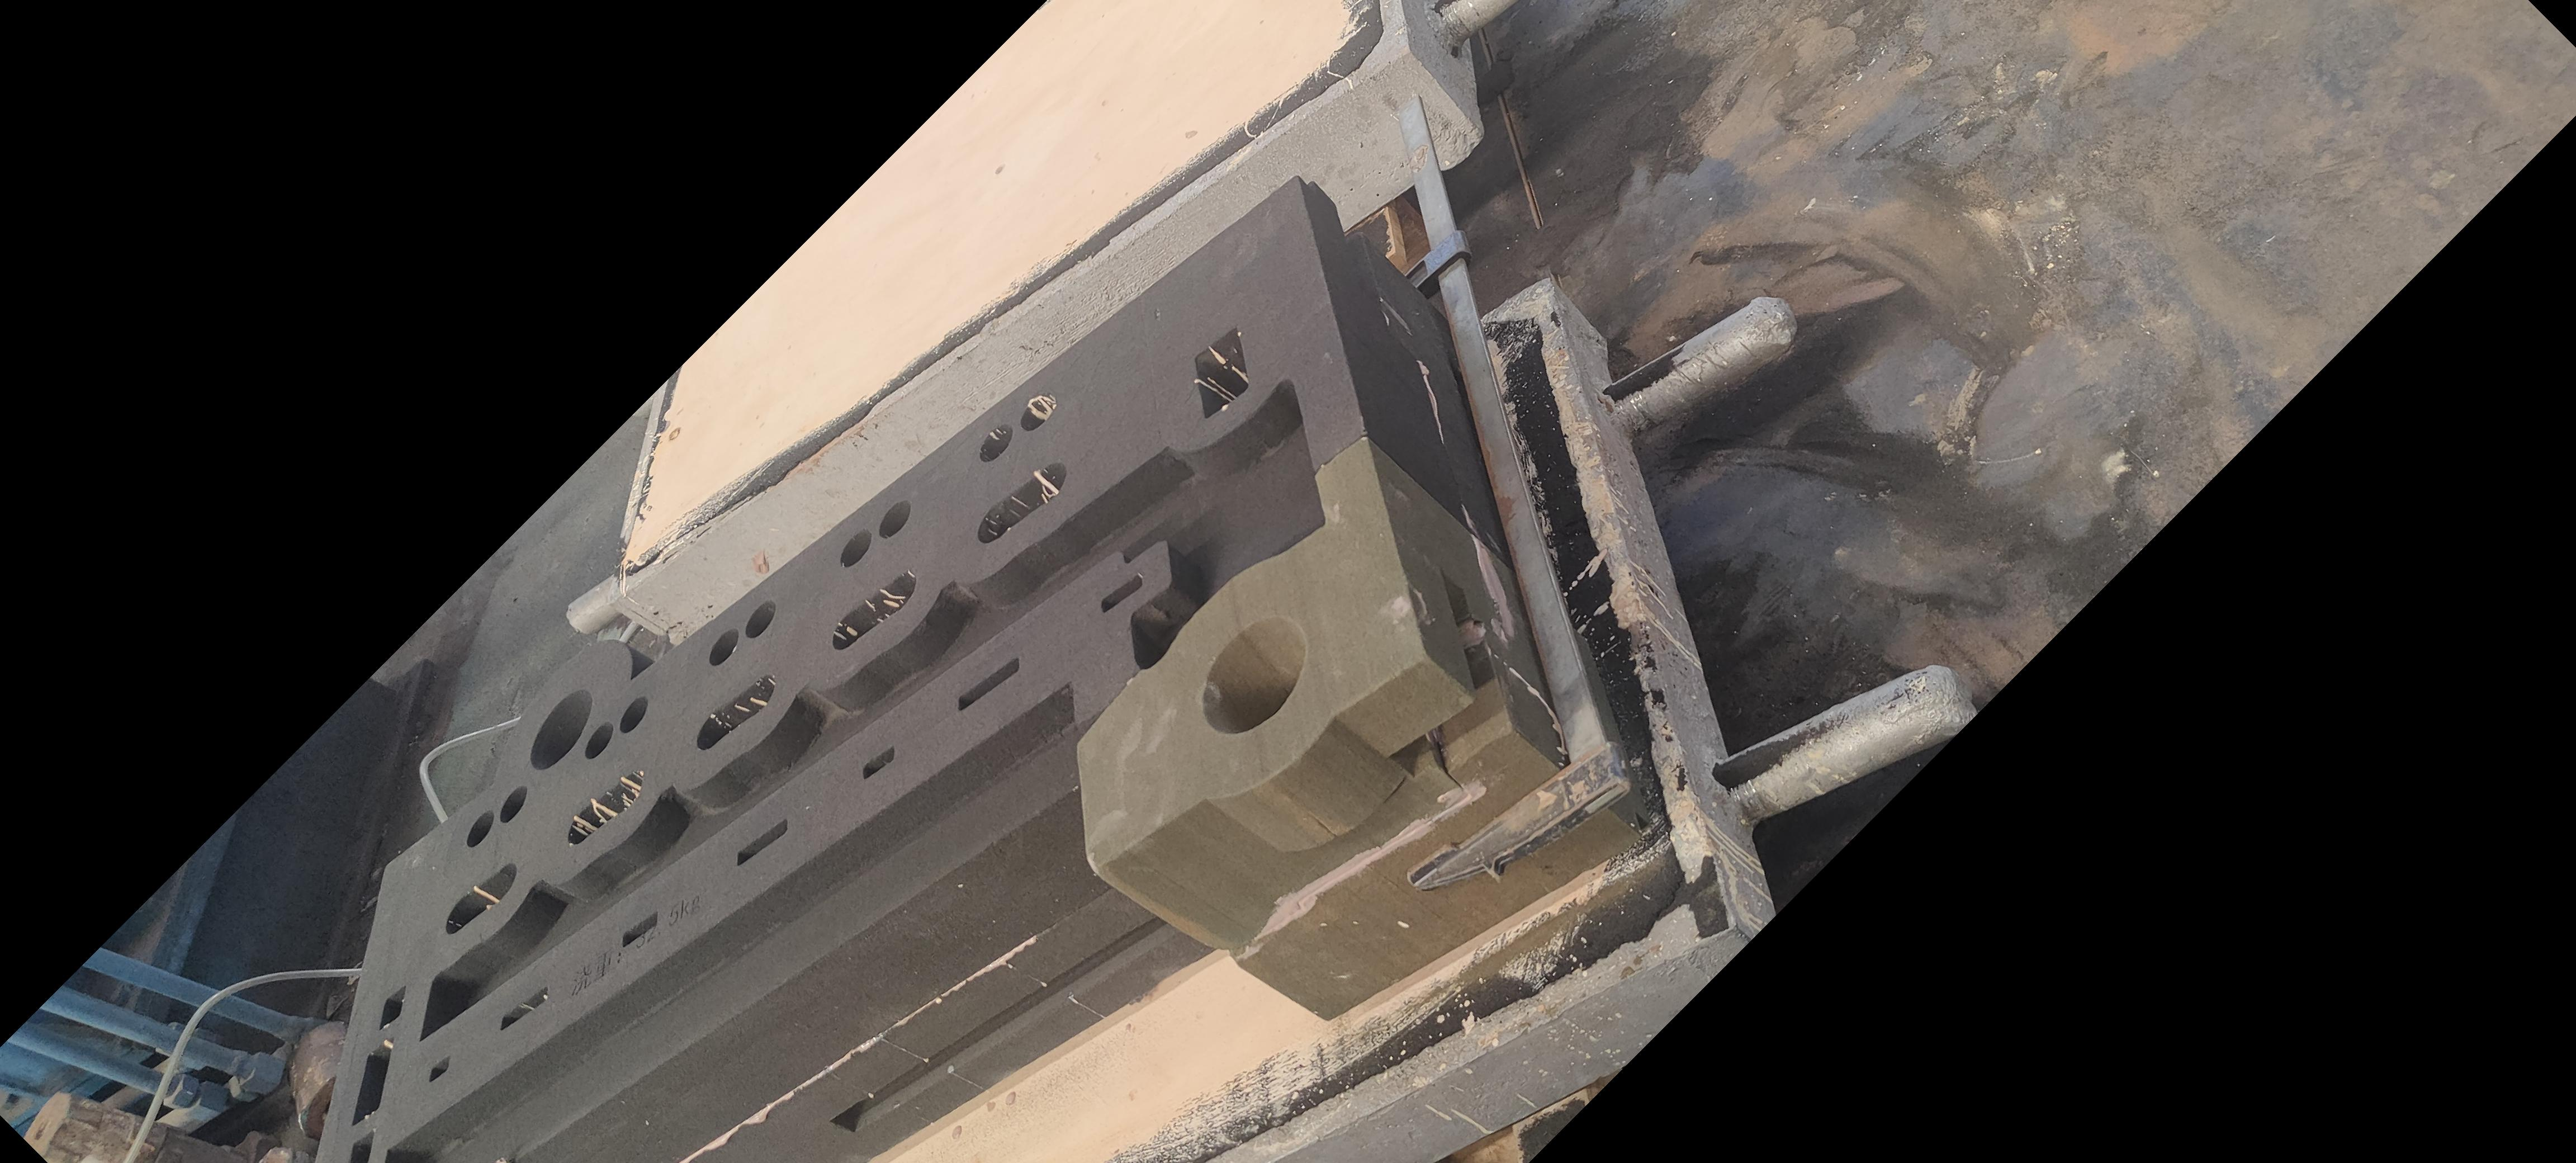pouring hole: (1198, 614, 1309, 734), (527, 687, 593, 770)
